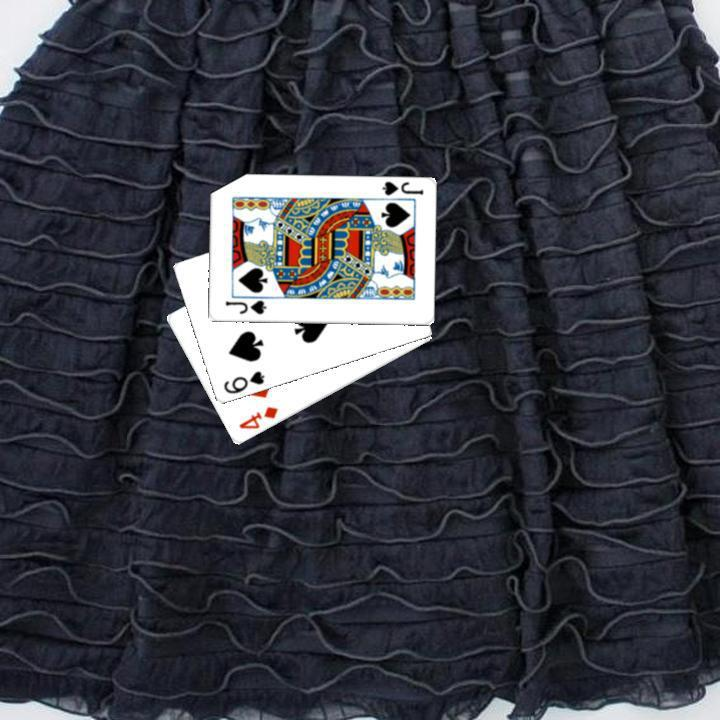4: (234, 402, 280, 431)
6: (219, 367, 266, 396)
J: (221, 296, 268, 317), (378, 178, 425, 197)
